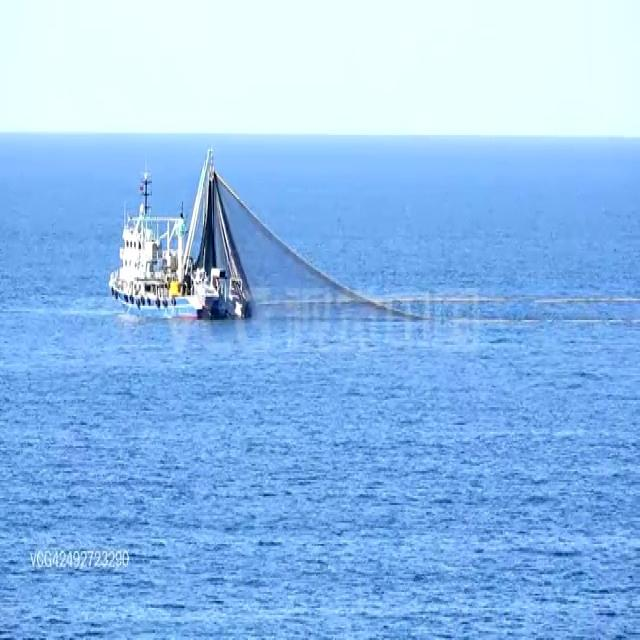fishing boat: (108, 160, 250, 318)
